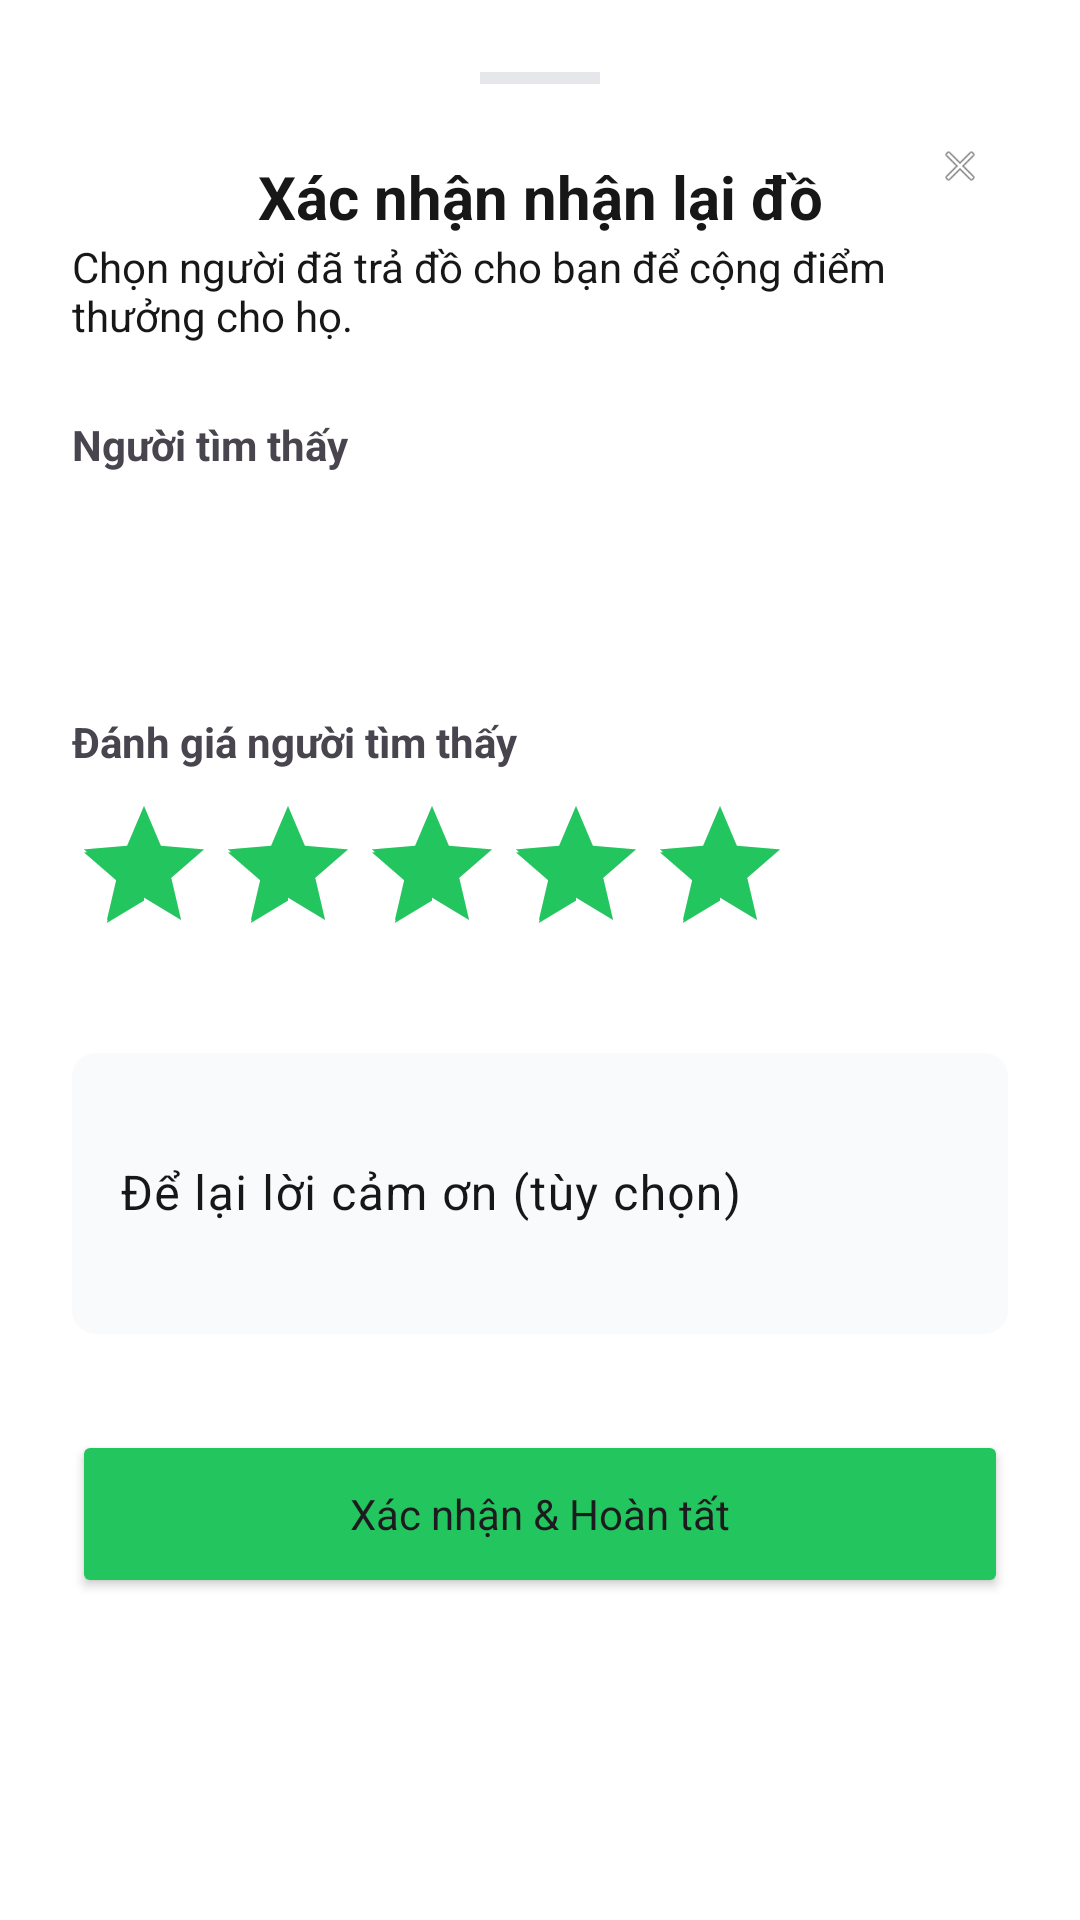

Icon bounding boxes for this 1080px x 1920px phone screenshot, format (x1, y1, x2, y2):
Đóng: (945, 151, 975, 181)
